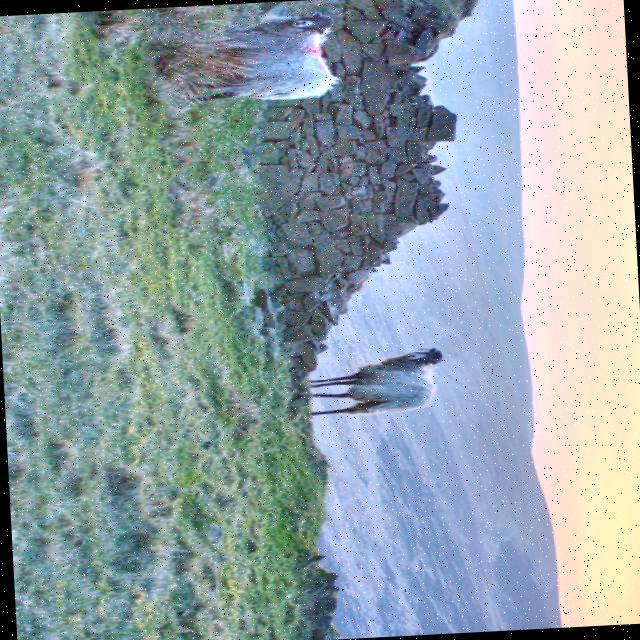sheep: (194, 15, 342, 102), (314, 349, 444, 416)
